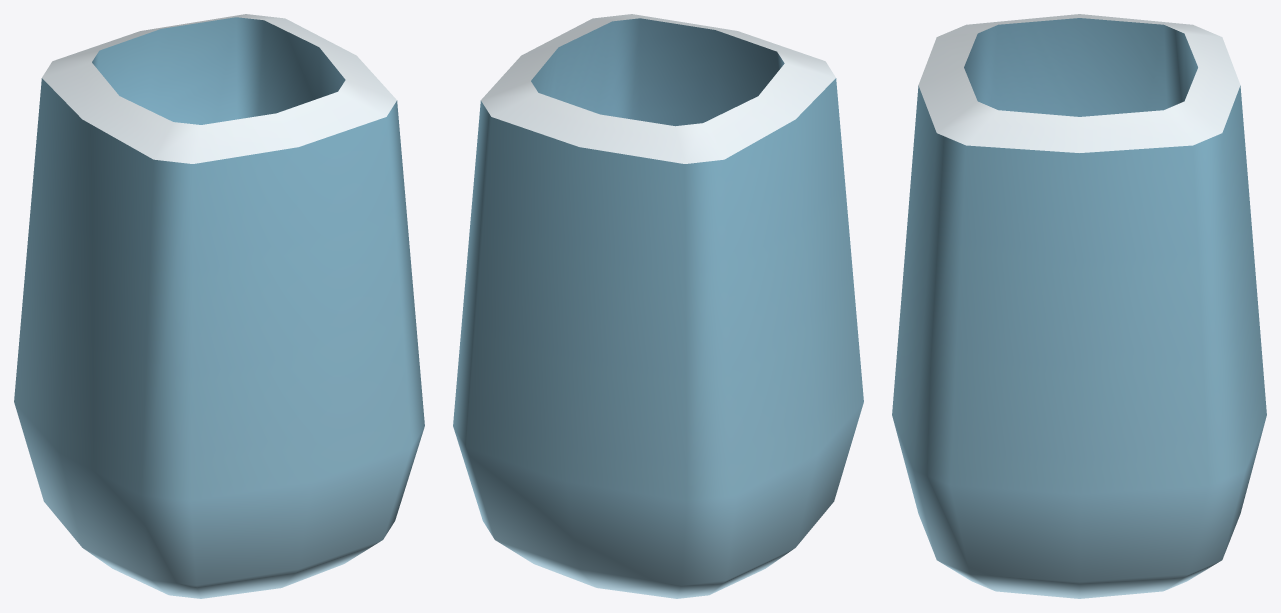
The model's file is glass.fbx.
3 views of the same model, side by side, from view 1: azimuth 30°, elevation 25°; view 2: azimuth 150°, elevation 25°; view 3: azimuth 270°, elevation 25° (orthographic).
Parts seen in each view (by area): view 1: glass; view 2: glass; view 3: glass.
Boxes of the visible parts, left/top/right/bottom form: glass: left=14, top=14, right=424, bottom=598; glass: left=453, top=14, right=863, bottom=598; glass: left=892, top=14, right=1266, bottom=598.
Size of the model in its own units: 18.35 by 25.85 by 18.36.
